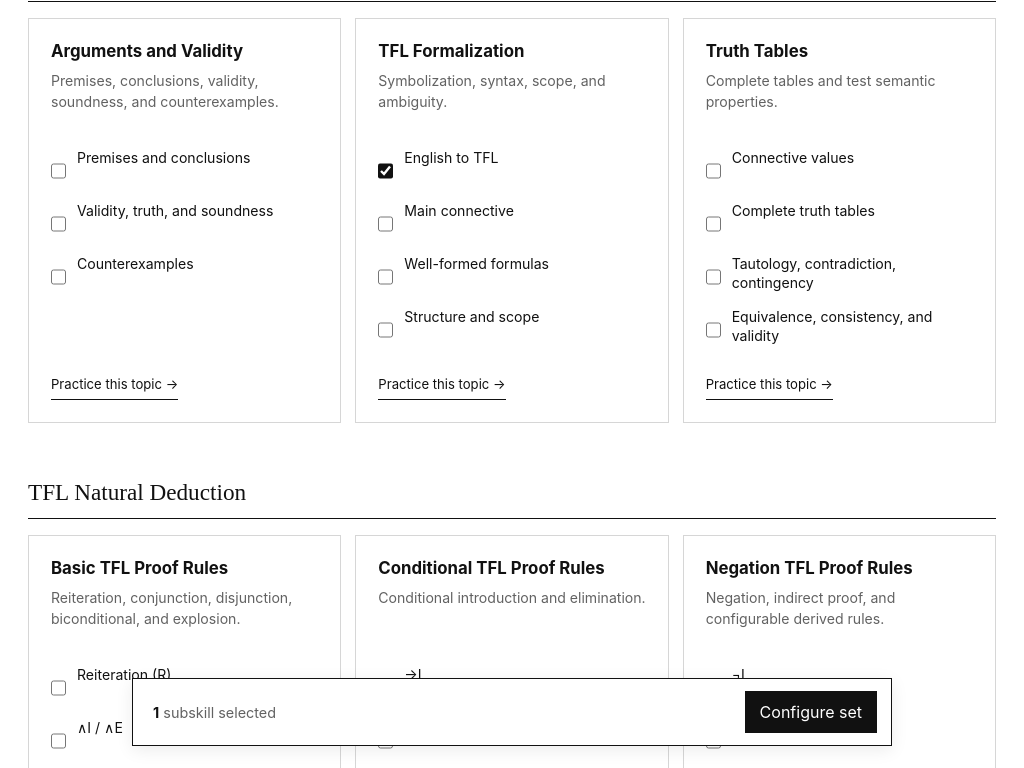
Test case: Logic Trainer interface › configures a set from a single topic quick action
(page scrolled)
Click the button "Practice this topic →" below "Structure and scope". click: (442, 385)
box: top-left (378, 369), bottom-right (506, 400)
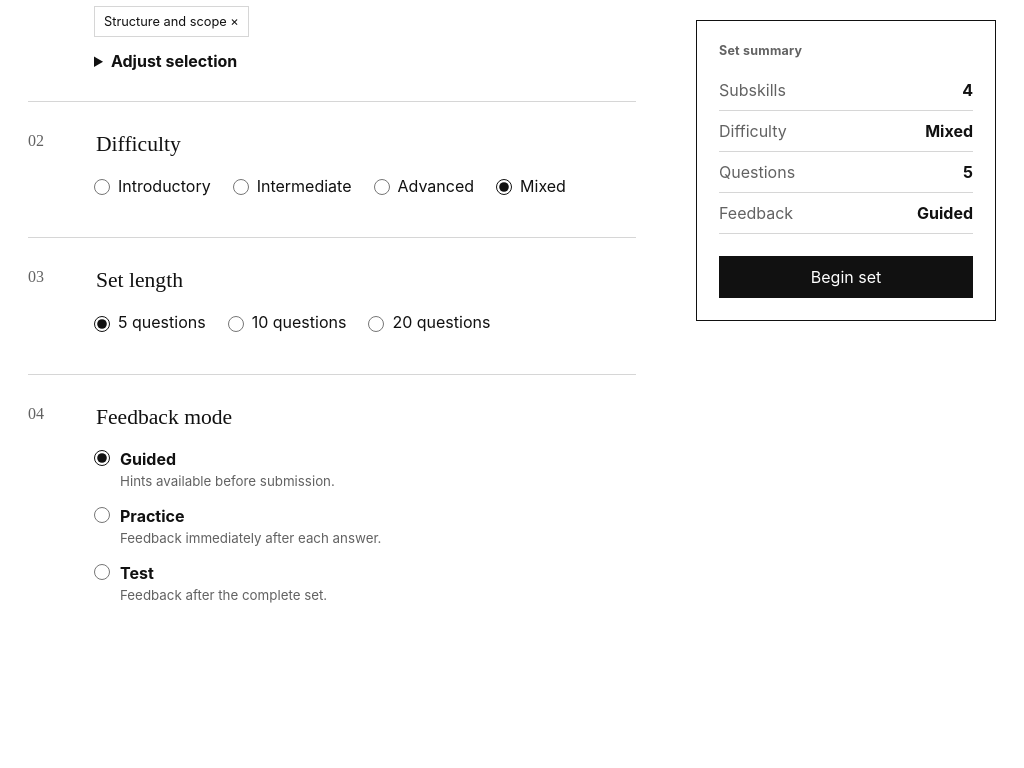
expect the button "Begin set" is enabled: met, box top-left (719, 256), bottom-right (973, 298)
